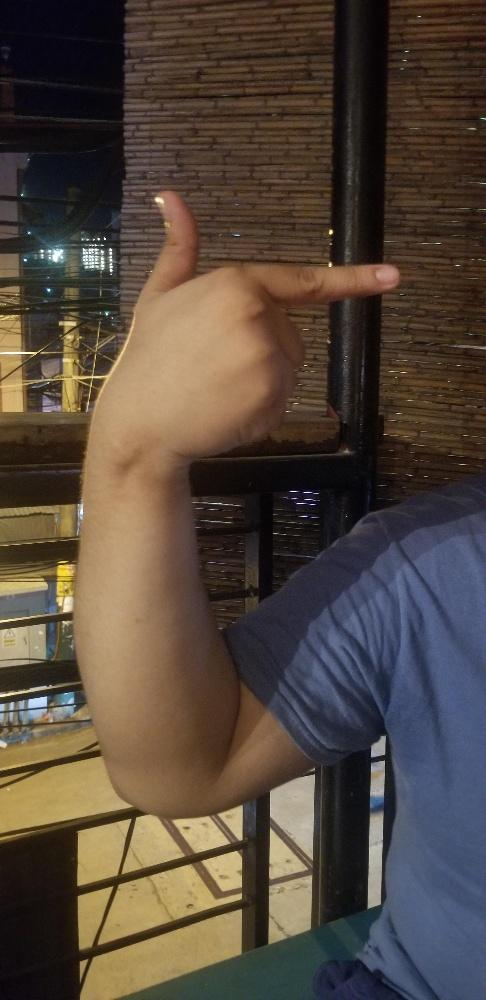g: (106, 189, 402, 461)
